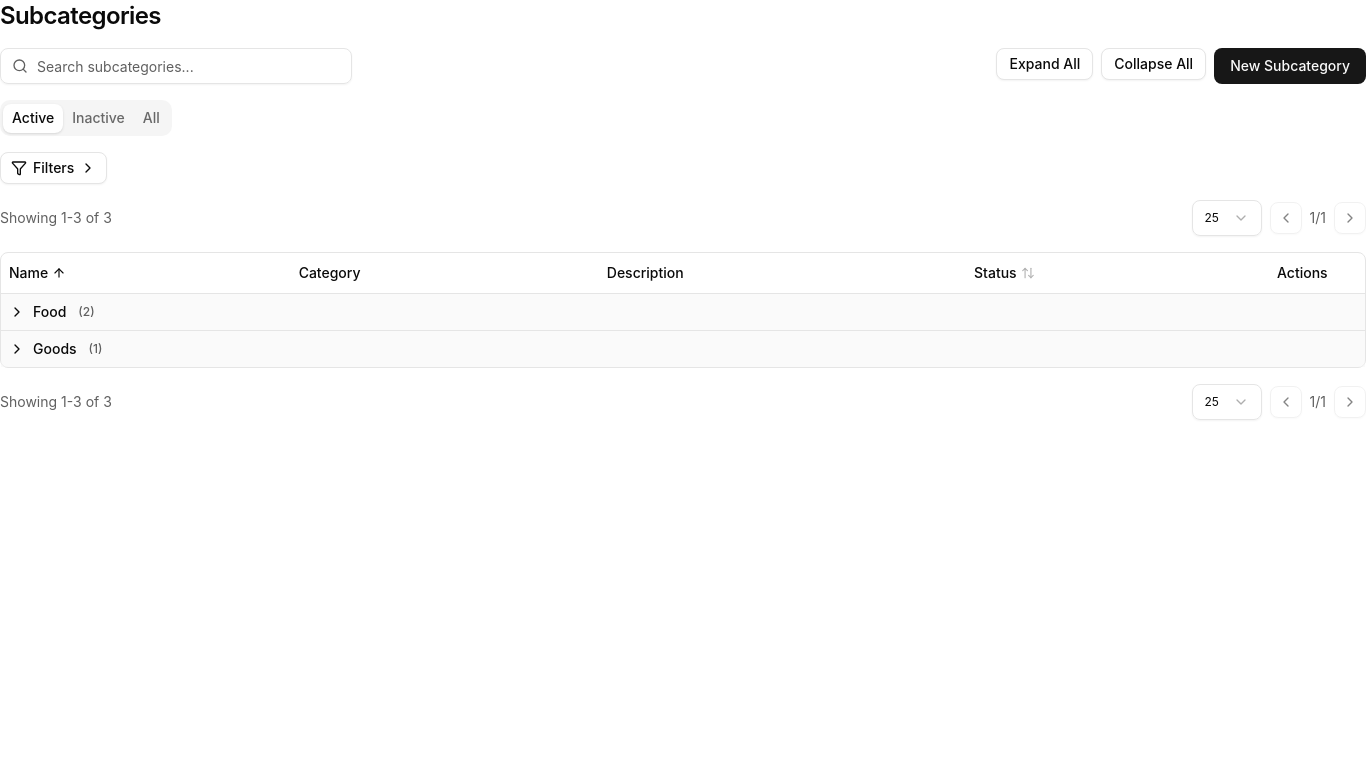
Test: Subcategories › opens edit dialog when Edit button is clicked
The image size is (1366, 768).
Click the row with test id "category-header-c1". click: (683, 312)
box: [1,293,1365,330]
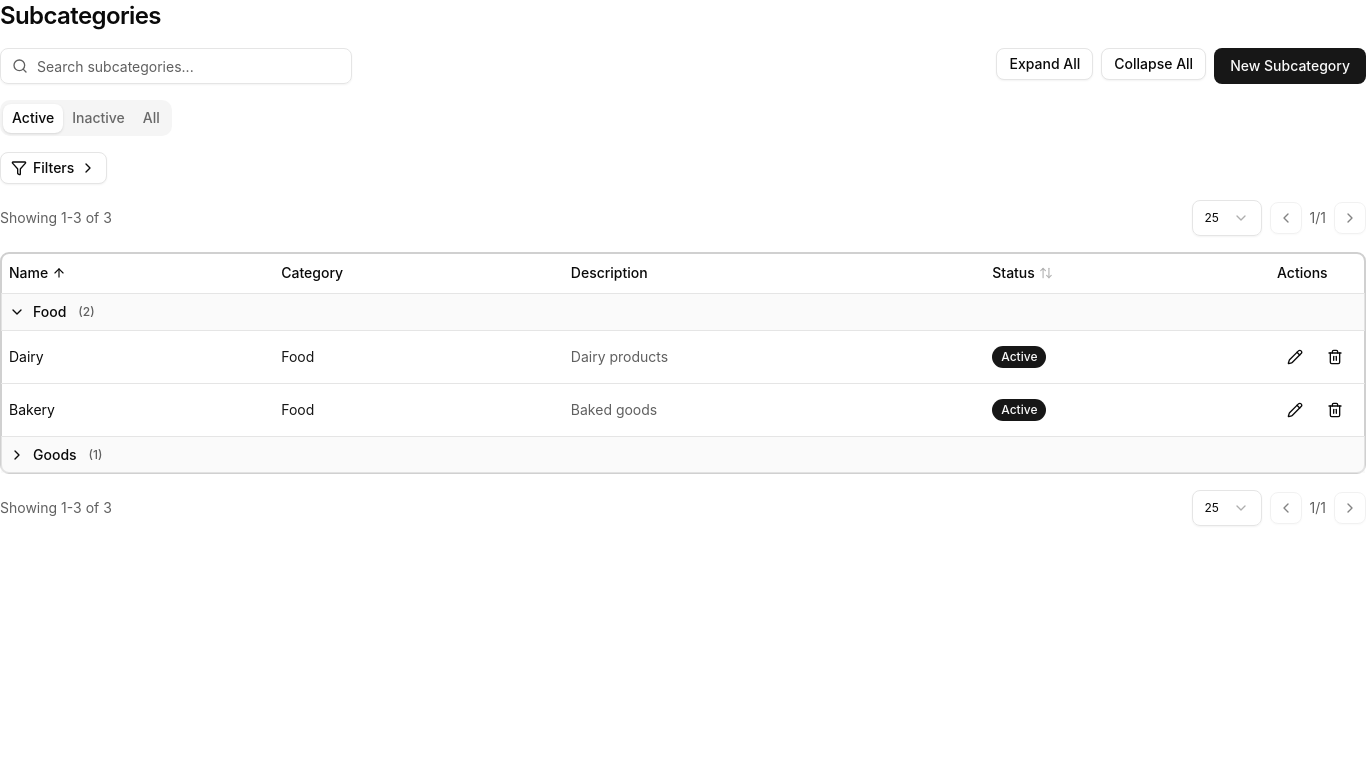
Click the button named "edit" in the row of "Dairy products". click: (1295, 356)
box: [1277,338,1313,374]
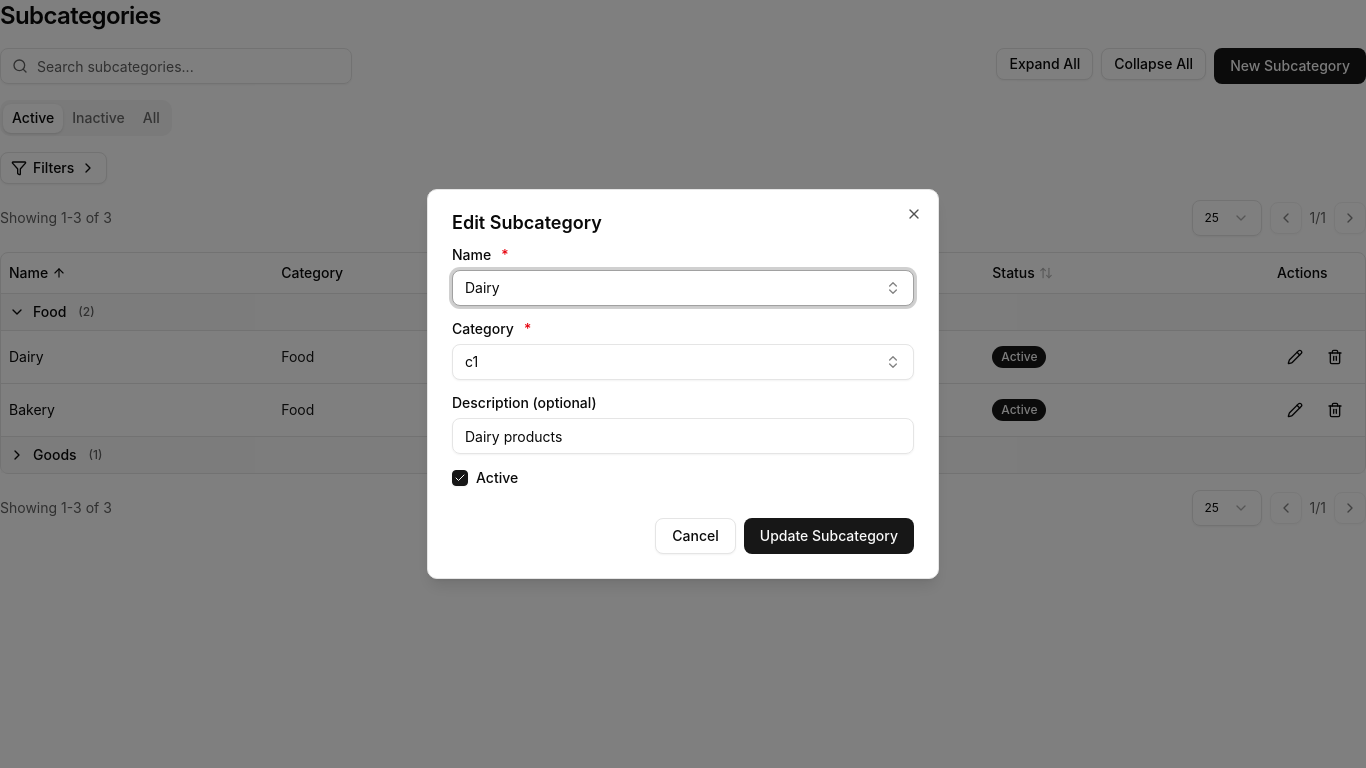
expect the heading "Edit Subcategory" is shown: met, box [452,212,602,233]
